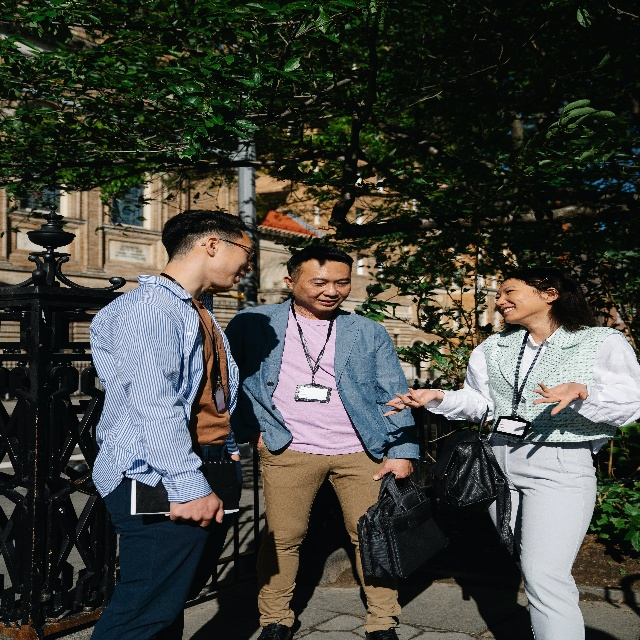Gafas: (246, 245, 258, 264)
Sin_guantes: (382, 380, 440, 418), (530, 379, 583, 417), (167, 495, 229, 527), (373, 460, 413, 482)
